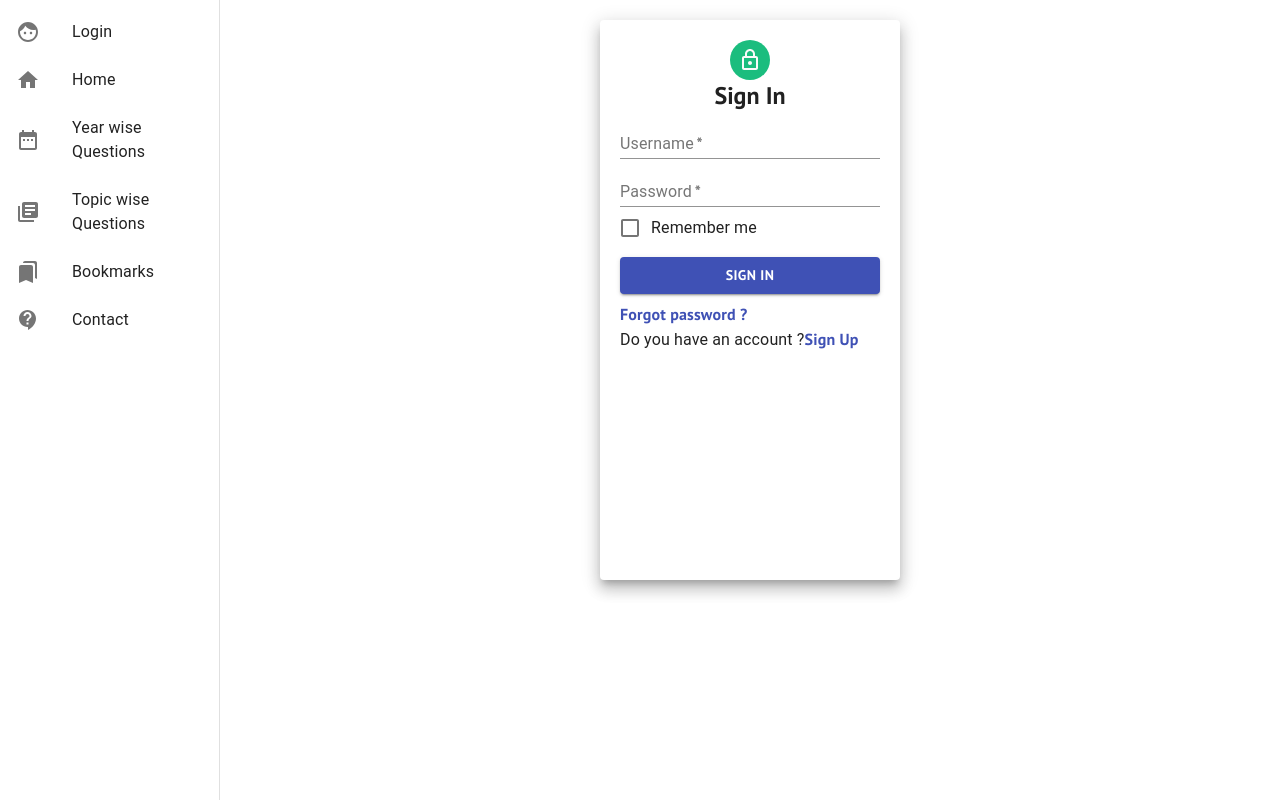
Test: renders the login page › routes to a correct pages
This screenshot has width=1280, height=800.
What coordinates should you click on to do the following:
click the link "Sign Up"
I would click on:
 (832, 339)
Its box is left=805, top=329, right=859, bottom=349.
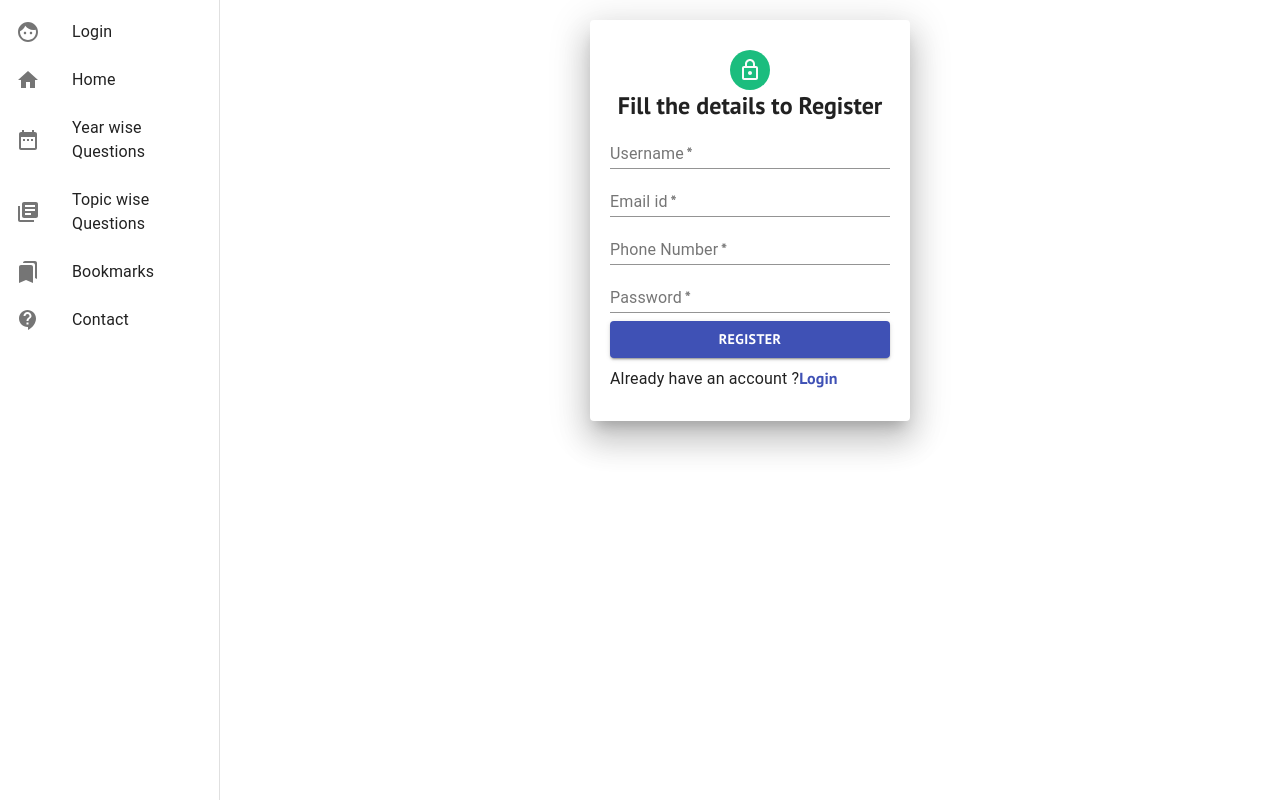
Check: the text "Email id" is shown, box left=610, top=193, right=677, bottom=210
Check: the text "Phone Number" is shown, box left=610, top=241, right=727, bottom=258
Check: the text "Register" is shown, box left=719, top=330, right=781, bottom=348
